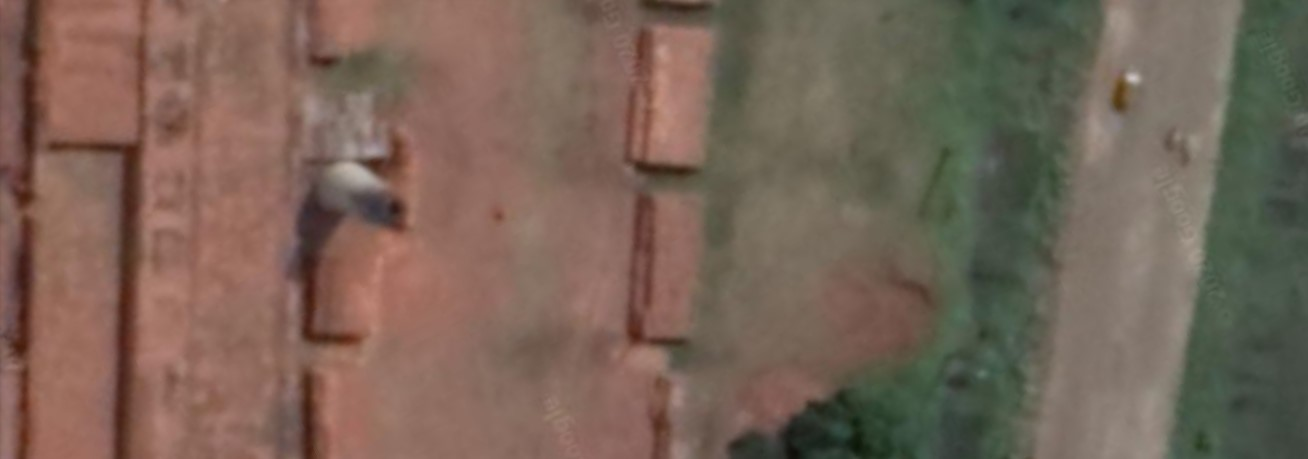kiln: (129, 9, 707, 459)
